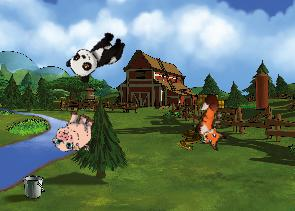fox: (188, 92, 238, 152)
panda: (63, 25, 130, 86)
pig: (49, 106, 99, 158)
